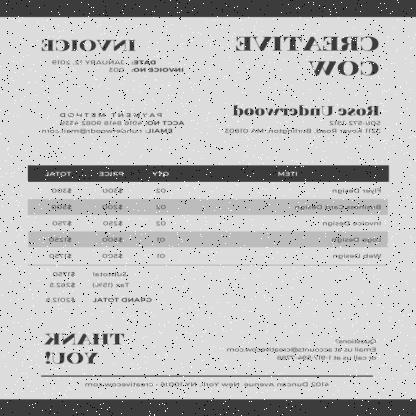Paragraph: (230, 30, 386, 80), (37, 32, 191, 76), (221, 101, 385, 136), (222, 334, 382, 364), (38, 108, 190, 138), (36, 269, 156, 306), (38, 328, 130, 368), (80, 379, 335, 390)
Table: (28, 165, 390, 266)
